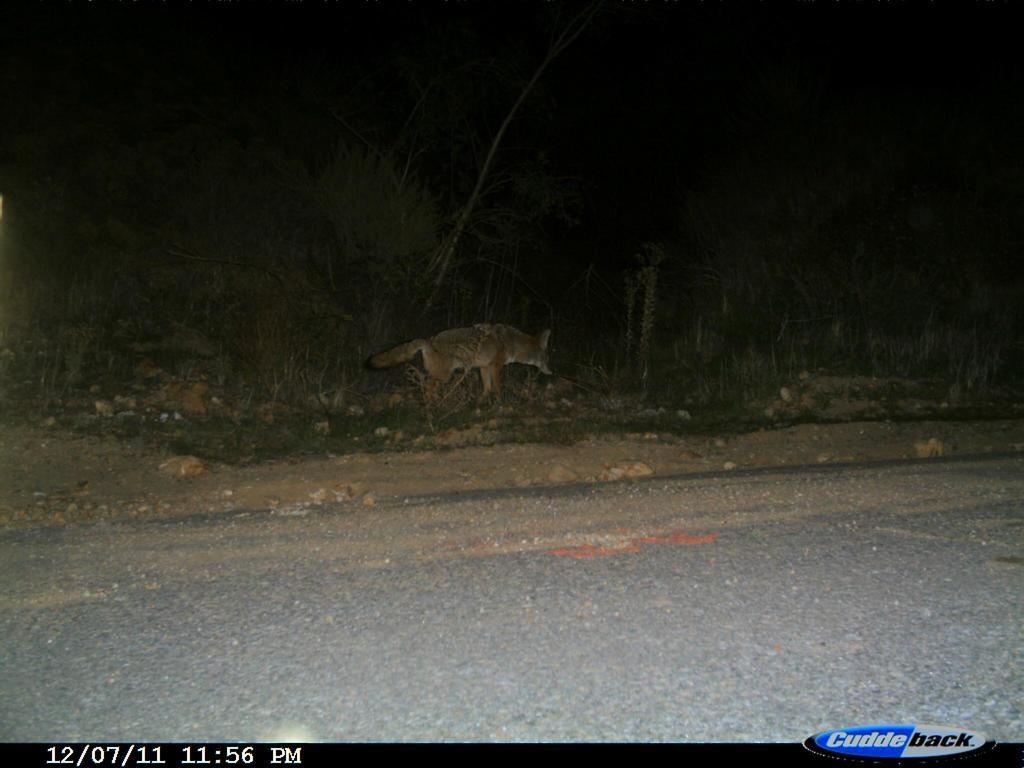coyote: (364, 312, 559, 417)
